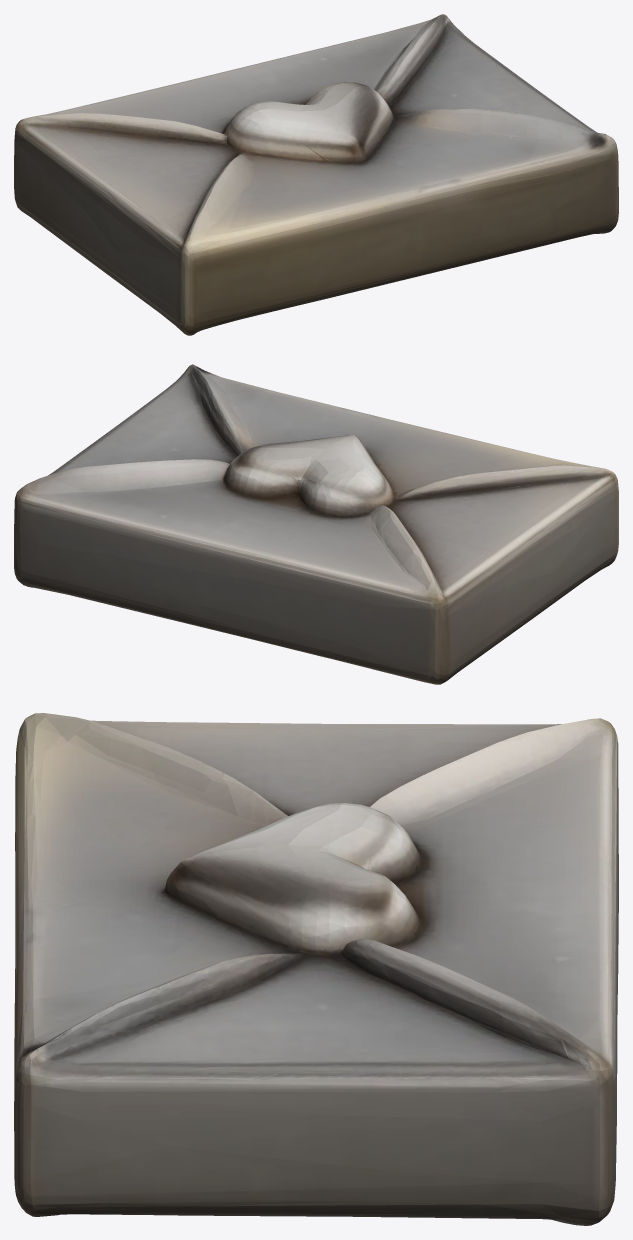
Rendered from gift-box.glb.
The picture shows the model from 3 angles, top to bottom: view 1: azimuth 30°, elevation 25°; view 2: azimuth 150°, elevation 25°; view 3: azimuth 270°, elevation 25°; orthographic projection. The views are drawn at different scales.
Parts seen in each view (by area): view 1: world; view 2: world; view 3: world.
Boxes of the visible parts, bbox=[...] form: world: bbox=[14, 14, 618, 335]; world: bbox=[14, 364, 618, 684]; world: bbox=[14, 713, 618, 1225].
Size of the model in its own units: 0.9841 by 0.3151 by 0.6962.
Materials: 1 (1 with a texture image).
